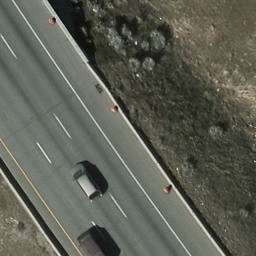car: (70, 163, 104, 203)
